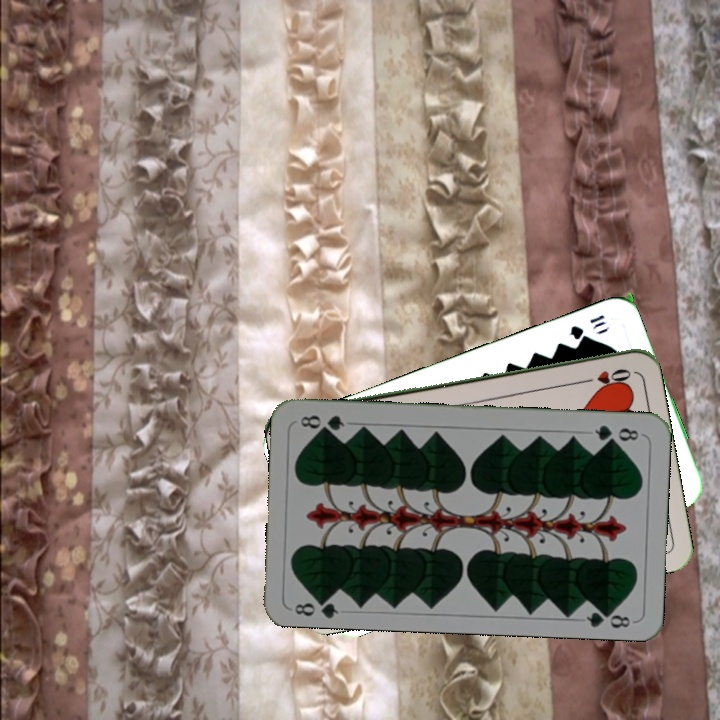G10: (566, 310, 614, 342)
G8: (291, 592, 341, 620), (590, 421, 641, 445)
HO: (576, 364, 634, 387)
